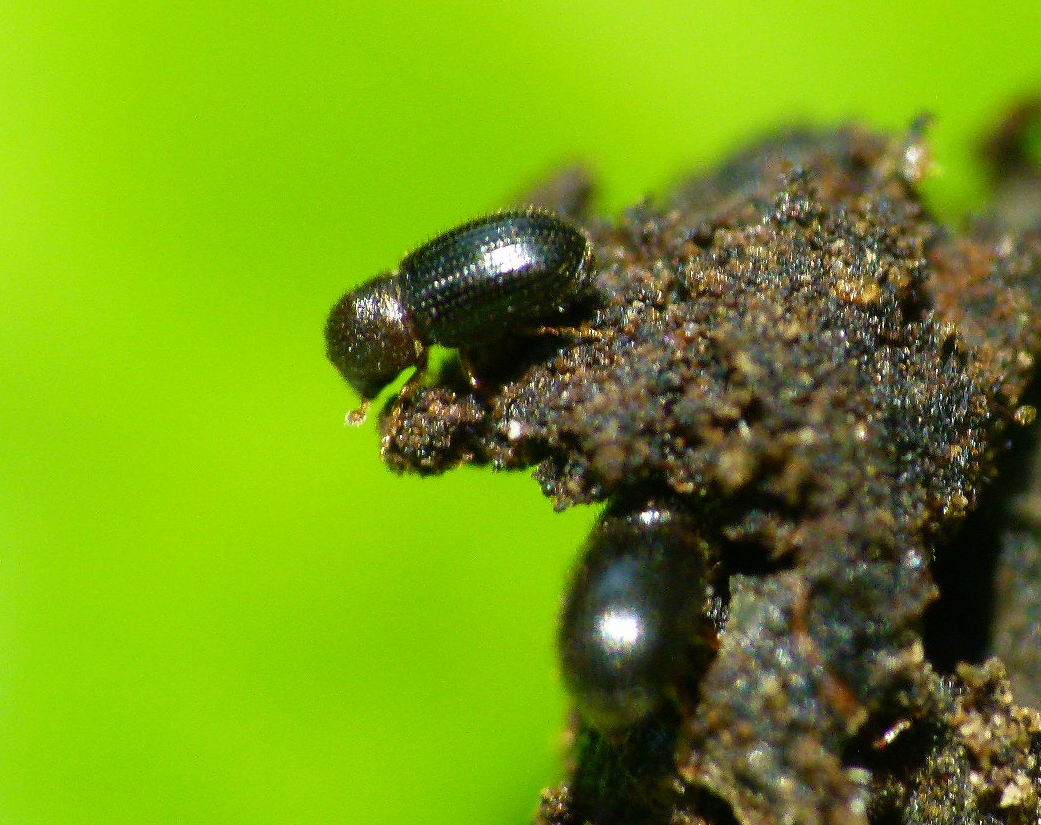broca de cafe: (284, 207, 995, 799)
